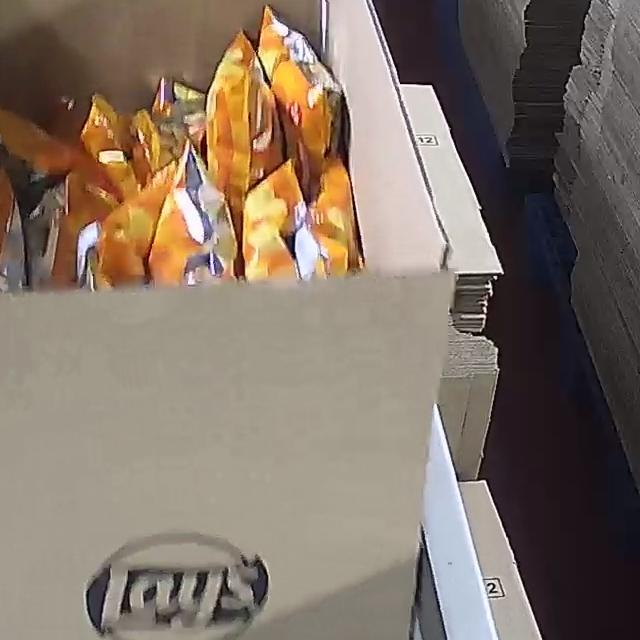cheese: (0, 0, 460, 315)
